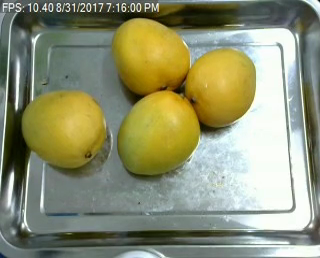Mango: (116, 91, 200, 175), (21, 89, 107, 169), (111, 16, 191, 94), (187, 48, 256, 129)
